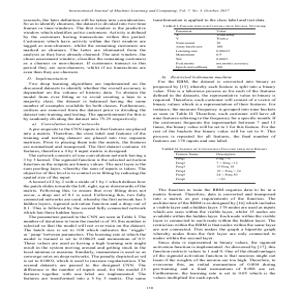table: (159, 148, 269, 184)
text: (20, 16, 149, 283), (151, 187, 279, 280), (151, 75, 281, 146), (162, 24, 264, 72), (153, 18, 268, 23)
